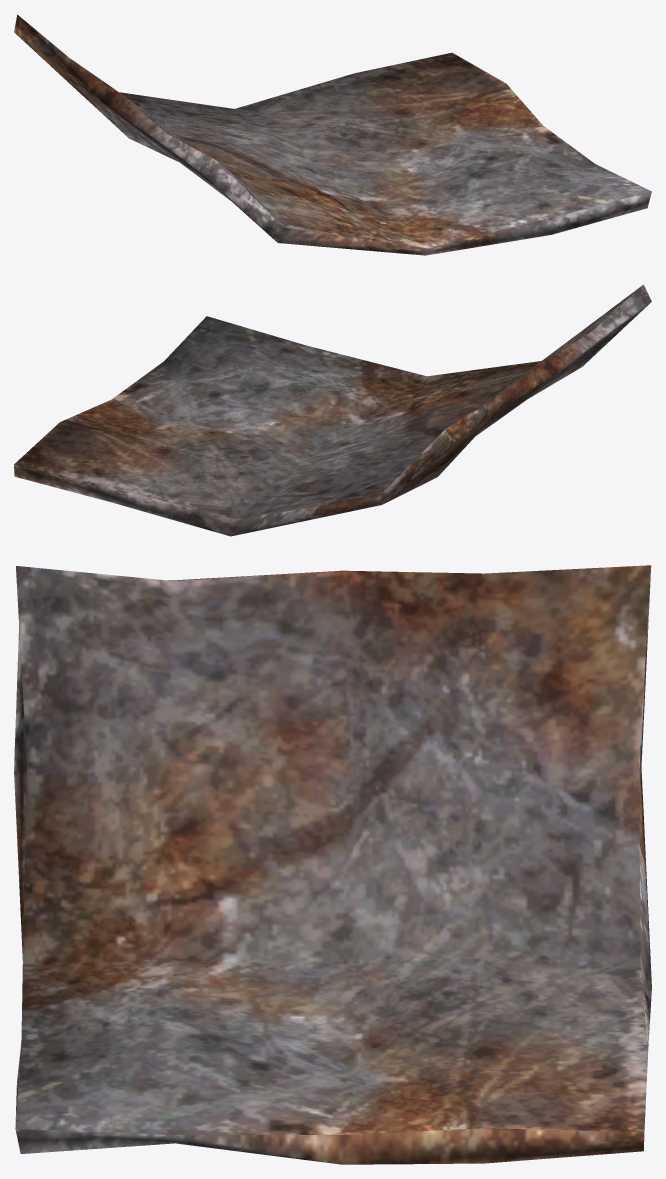
File: sheet_metal01.dae
3 renders of one model, top to bottom at view 1: azimuth 30°, elevation 25°; view 2: azimuth 150°, elevation 25°; view 3: azimuth 270°, elevation 25°, orthographic. The views are drawn at different scales.
Visible parts, largest first — view 1: pCube1; view 2: pCube1; view 3: pCube1.
Part boxes in pixels (x1,y1,x2,y2): pCube1: [14, 14, 651, 255]; pCube1: [14, 284, 651, 536]; pCube1: [14, 565, 651, 1164].
Size of the model in its own units: 0.5022 by 0.1735 by 0.3843.
